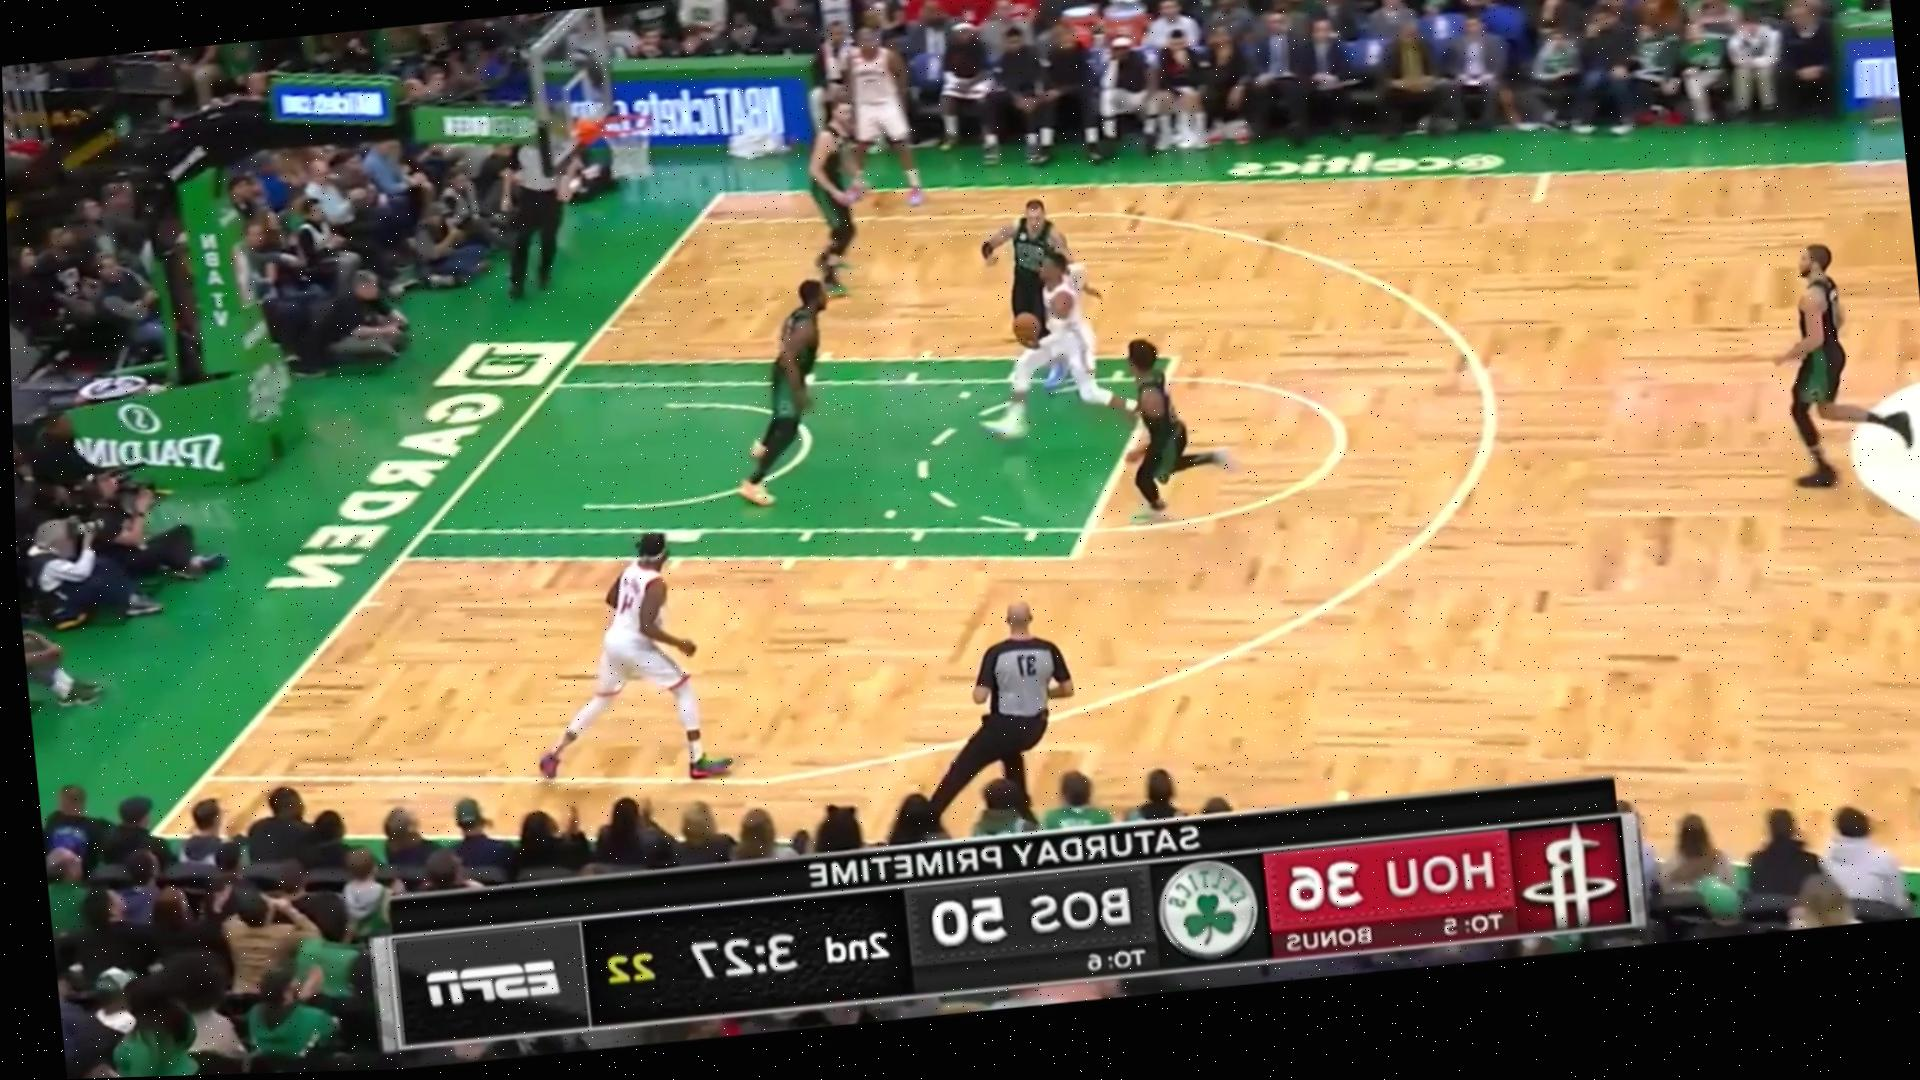no_foul: (963, 181, 1126, 441)
